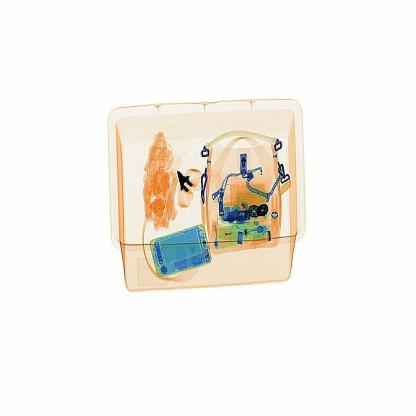gun: (169, 154, 205, 214)
